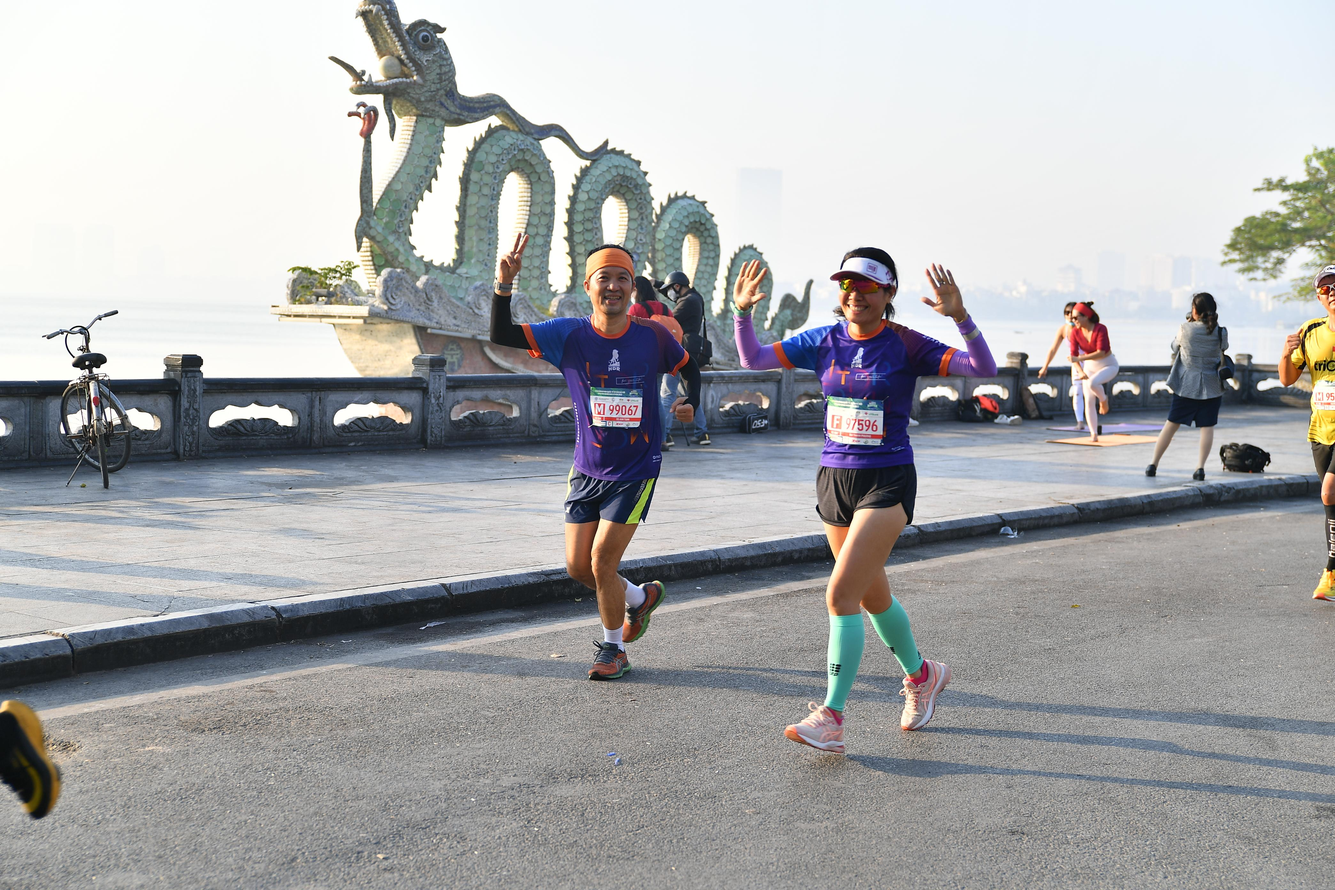bib: (827, 395, 883, 446), (589, 386, 644, 428), (1314, 382, 1335, 410)
